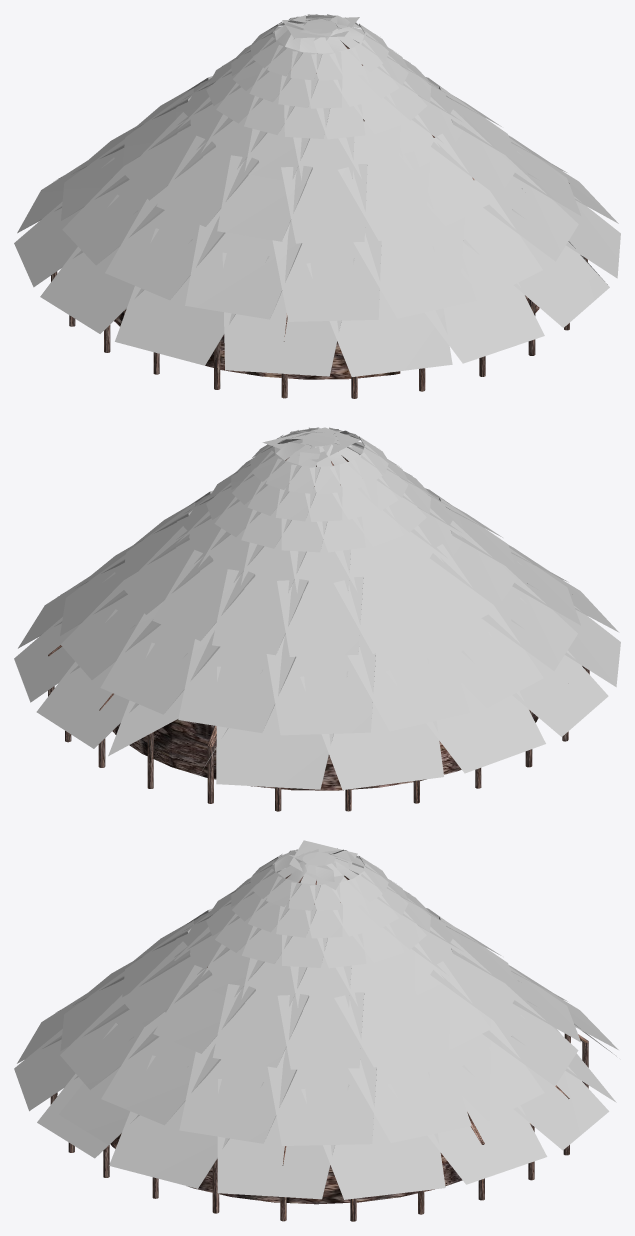
File: oca_oca_oca.fbx
3 renders of one model, top to bottom at view 1: azimuth 30°, elevation 25°; view 2: azimuth 150°, elevation 25°; view 3: azimuth 270°, elevation 25°, orthographic.
Visible parts, largest first — view 1: HUt, Cylinder.001, Cylinder; view 2: HUt, Cylinder, Cylinder.001; view 3: HUt, Cylinder.001, Cylinder.
Part boxes in pixels (x1,y1,x2,y2): HUt: (14, 14, 620, 376); Cylinder.001: (51, 42, 587, 398); Cylinder: (114, 119, 539, 379); HUt: (14, 427, 620, 789); Cylinder: (112, 712, 538, 790); Cylinder.001: (48, 455, 589, 811); HUt: (14, 840, 618, 1199); Cylinder.001: (50, 874, 588, 1221); Cylinder: (110, 1133, 462, 1204).
Bounding box in the file's own units: 1672 × 792 × 1714.
